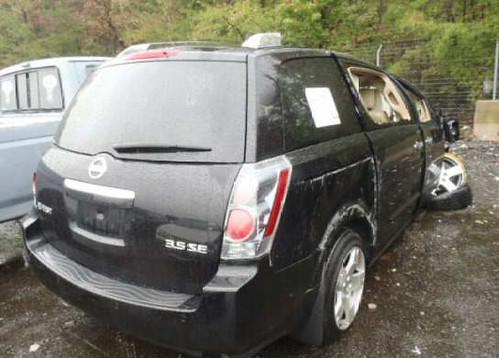quaterpanel-dent: (288, 135, 378, 237)
